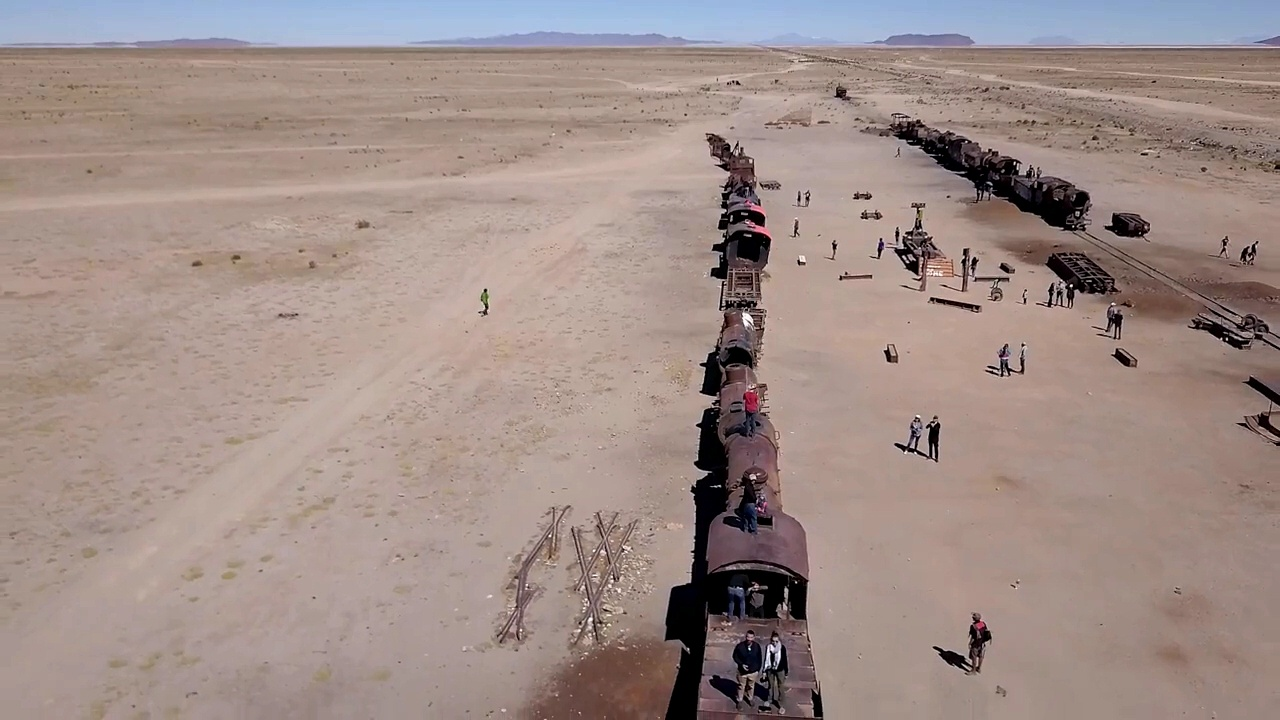insan: (763, 629, 794, 714), (735, 626, 762, 709), (963, 612, 990, 674), (926, 408, 945, 460), (902, 414, 924, 456), (993, 342, 1014, 378), (478, 284, 494, 316), (1104, 302, 1120, 332), (1017, 341, 1030, 377), (1065, 282, 1078, 311), (1113, 308, 1125, 339), (1055, 279, 1065, 307), (874, 237, 886, 260), (1045, 281, 1054, 309), (790, 216, 801, 238), (803, 187, 812, 210), (829, 238, 838, 260), (892, 225, 901, 247), (794, 189, 803, 207), (1022, 287, 1030, 305)
